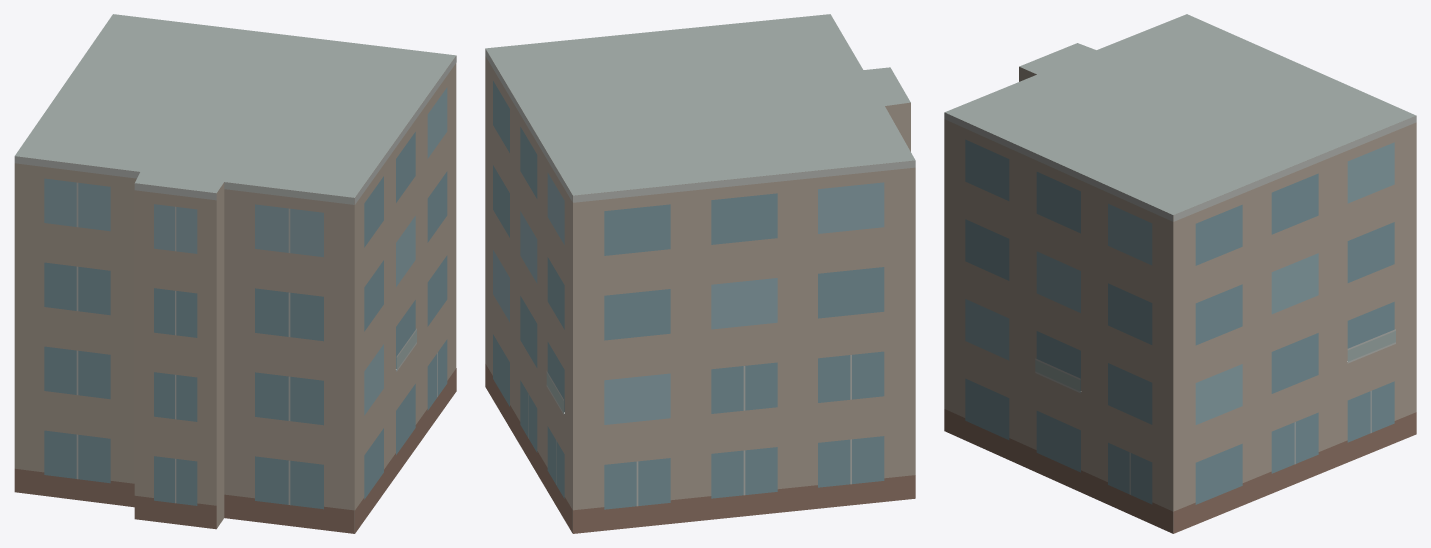
The model's file is survey-upis-32597810.glb.
3 views of the same model, side by side, from view 1: azimuth 30°, elevation 25°; view 2: azimuth 150°, elevation 25°; view 3: azimuth 270°, elevation 25° (orthographic). The views are drawn at different scales.
Parts seen in each view (by area): view 1: survey-upis-32597810.tmp; view 2: survey-upis-32597810.tmp; view 3: survey-upis-32597810.tmp.
Part boxes in pixels (bbox=[...]): survey-upis-32597810.tmp: bbox=[14, 14, 456, 533]; survey-upis-32597810.tmp: bbox=[485, 14, 915, 533]; survey-upis-32597810.tmp: bbox=[944, 14, 1416, 533].
Size of the model in its own units: 15.58 by 11.5 by 15.45.
